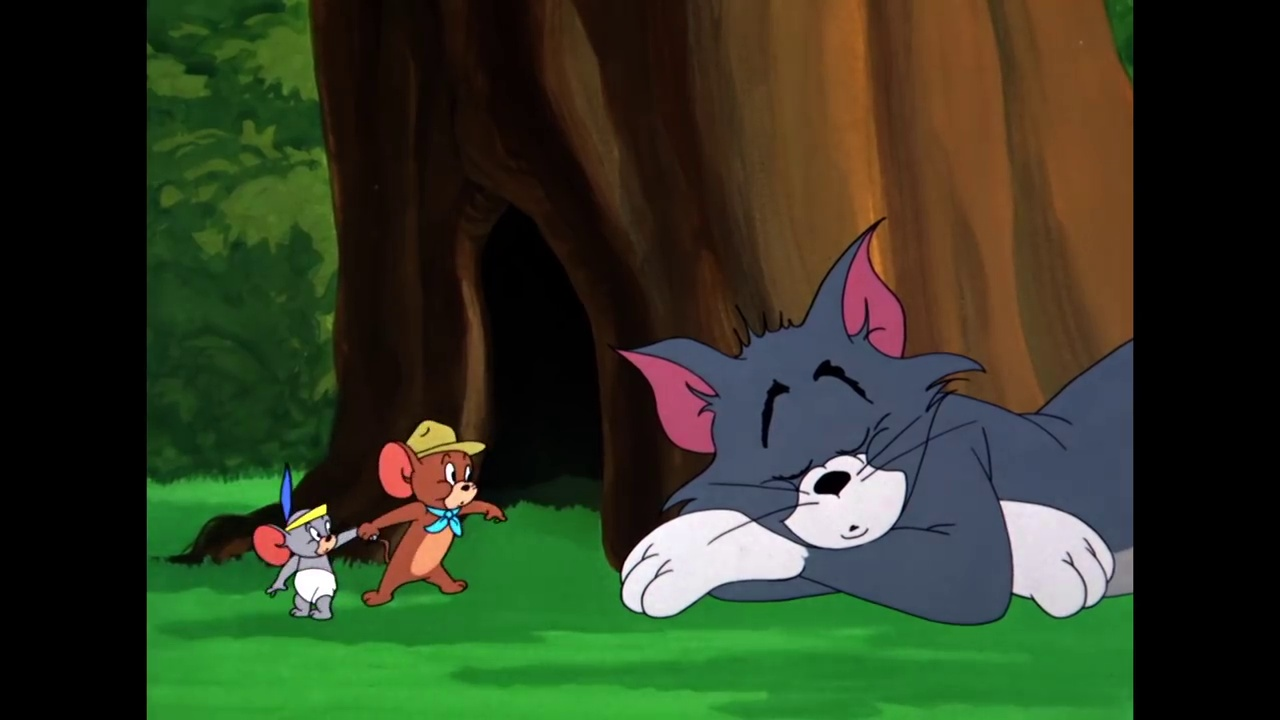tom: (609, 216, 980, 550)
